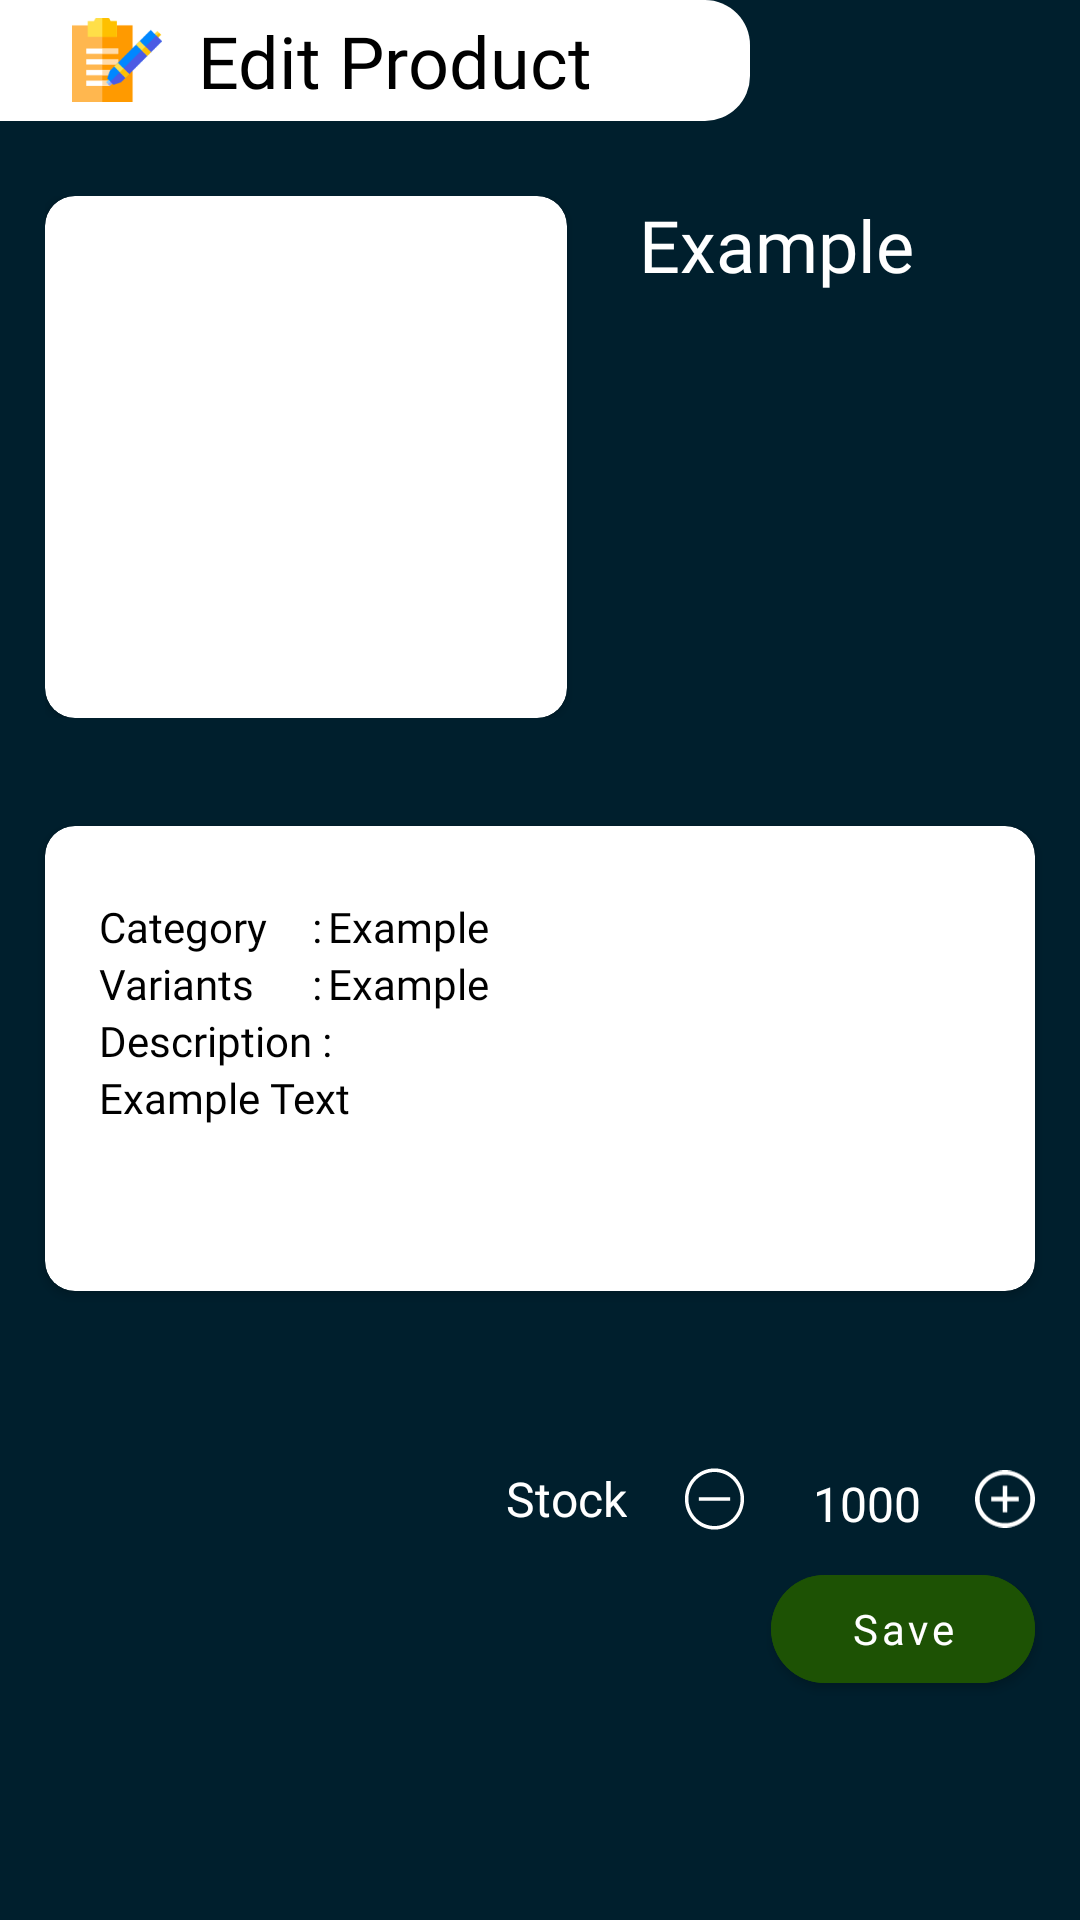

Icon click points for this 1080 x 1920 phone screenshot, format (x=x, y=y):
ei minus: (x=714, y=1499)
plus: (x=1005, y=1499)
